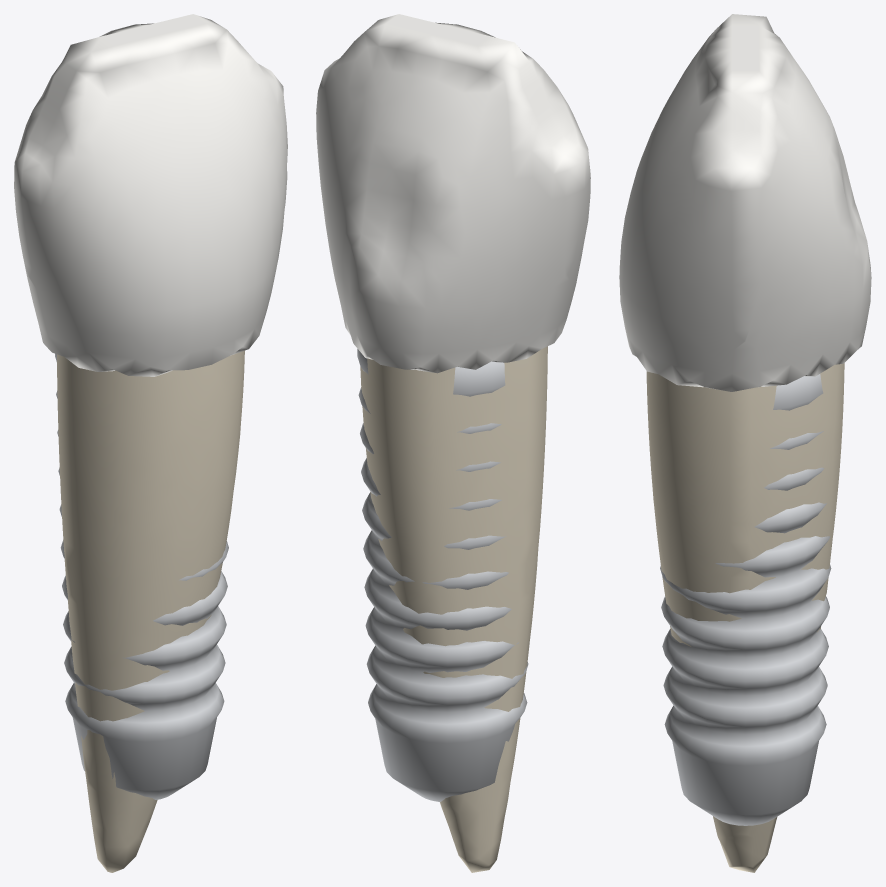
3 renders of one model, left to right at view 1: azimuth 30°, elevation 25°; view 2: azimuth 150°, elevation 25°; view 3: azimuth 270°, elevation 25°, orthographic.
Visible parts, largest first — view 1: crown, root, implant; view 2: crown, root, implant; view 3: crown, implant, root.
Part boxes in pixels (x1,y1,x2,y2): crown: (14,14,287,376); root: (57,350,244,872); implant: (55,353,228,799); crown: (316,14,590,373); root: (360,346,547,872); implant: (357,349,528,801); crown: (619,14,871,391); implant: (660,374,831,825); root: (646,363,844,872).
Size of the model in its own units: 5.71 by 17.3 by 4.68.
